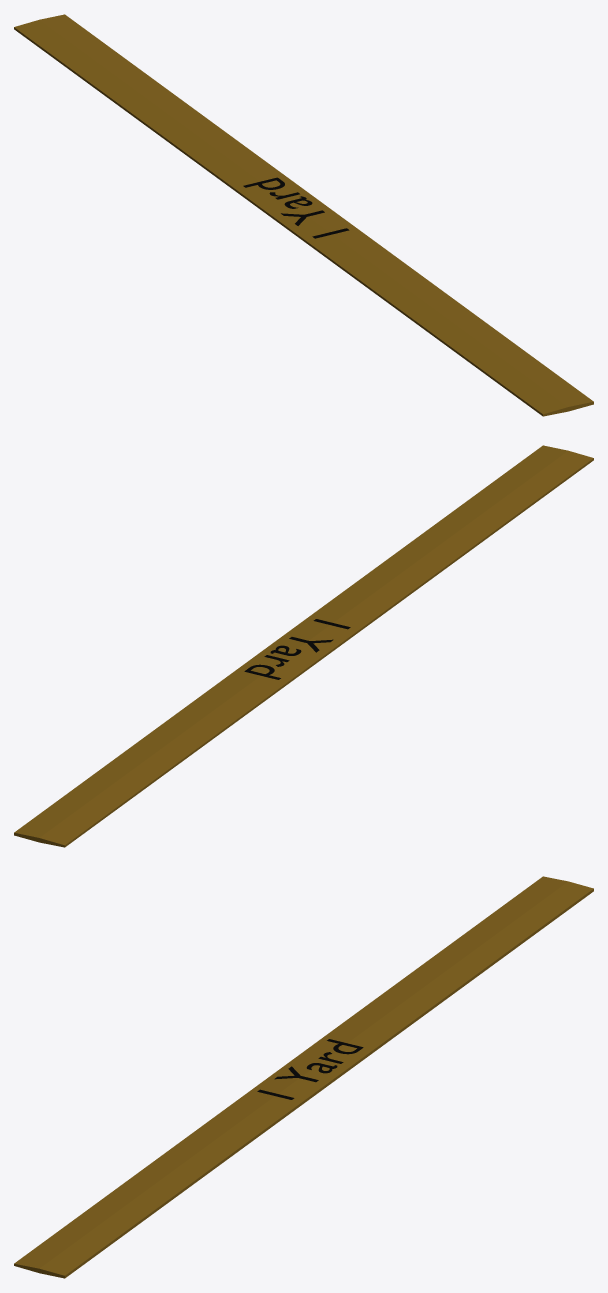
Rendered from yard1.gltf.
3 views of the same model, one above another, from view 1: azimuth 30°, elevation 25°; view 2: azimuth 150°, elevation 25°; view 3: azimuth 330°, elevation 25° (orthographic).
Parts seen in each view (by area): view 1: Cube, Text; view 2: Cube, Text; view 3: Cube, Text.
Boxes of the visible parts, x1,y1,x2,y2 form: Cube: (14, 14, 593, 416); Text: (243, 177, 349, 238); Cube: (14, 445, 593, 847); Text: (244, 619, 350, 679); Cube: (14, 876, 593, 1278); Text: (257, 1039, 363, 1099).
Size of the model in its own units: 1 by 0.0896 by 18.
